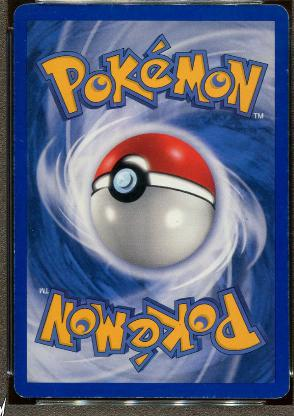Card: (11, 2, 291, 402)
Corner Wear: (264, 376, 288, 400), (13, 378, 29, 398)
Edge Wear: (70, 394, 264, 398), (81, 4, 259, 6), (285, 194, 287, 300), (13, 205, 15, 305), (13, 114, 15, 192), (285, 119, 287, 194), (13, 47, 15, 105), (284, 67, 287, 91), (38, 396, 54, 398), (24, 2, 38, 4)
Scratch: (15, 60, 19, 64), (18, 140, 23, 142)
